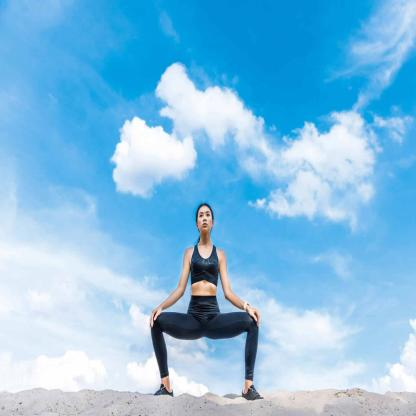godness: (142, 198, 271, 401)
